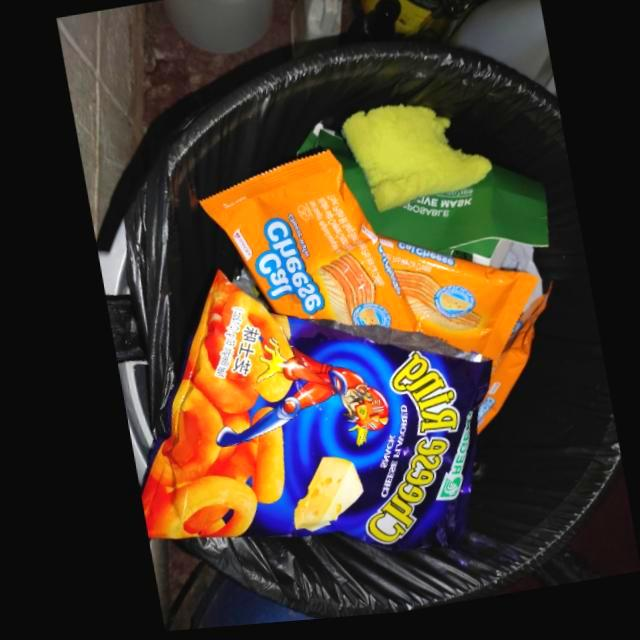cardboard: (293, 127, 543, 277)
food_wrapper: (130, 274, 487, 561), (195, 155, 412, 339), (373, 242, 541, 441)
